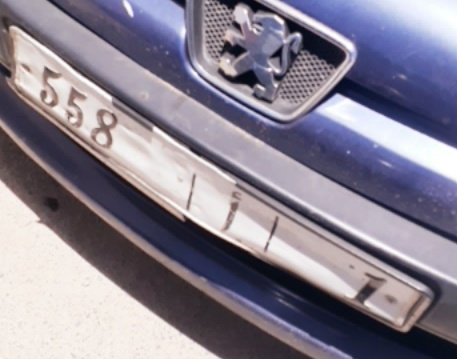1: (344, 267, 389, 310)
5: (35, 64, 62, 111), (64, 85, 87, 128)
8: (89, 105, 120, 150)
a: (216, 187, 244, 234)
